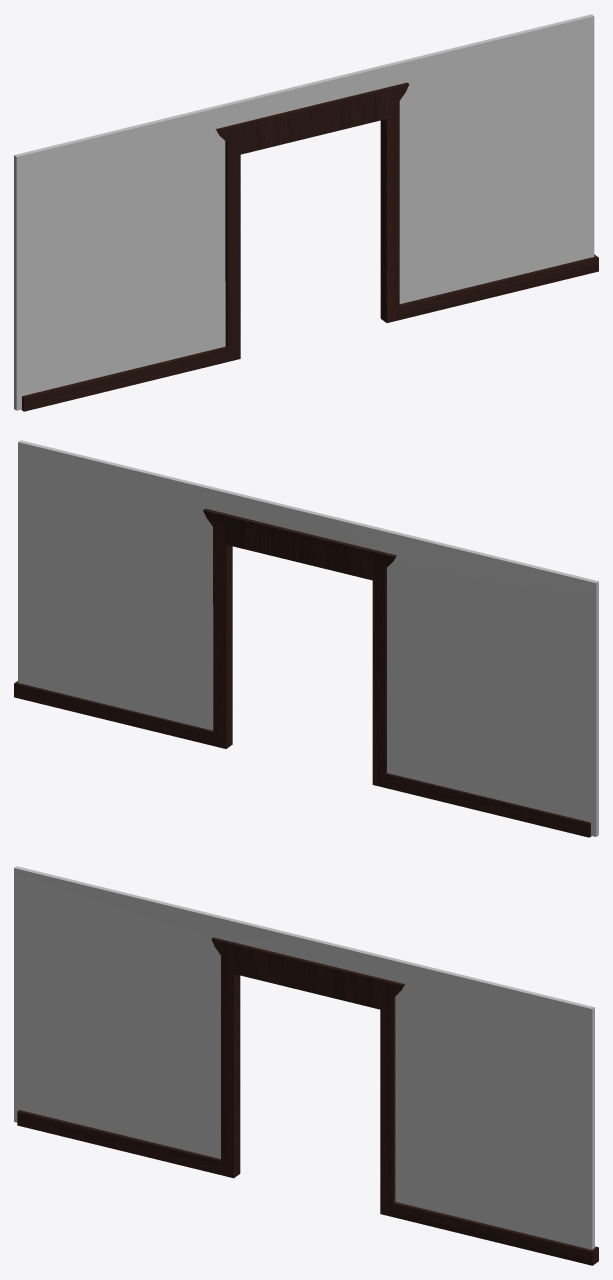
File: DoubleDoorWall.fbx
3 views of the same model, one above another, from view 1: azimuth 30°, elevation 25°; view 2: azimuth 150°, elevation 25°; view 3: azimuth 330°, elevation 25° (orthographic).
Visible parts, largest first — view 1: wall04, polySurface1; view 2: wall04, polySurface1; view 3: wall04, polySurface1.
Boxes of the visible parts, <box> form: wall04: <box>14,14,594,410</box>; polySurface1: <box>21,82,598,411</box>; wall04: <box>18,440,598,836</box>; polySurface1: <box>14,508,591,837</box>; wall04: <box>14,866,594,1249</box>; polySurface1: <box>17,937,598,1265</box>.
Size of the model in its own units: 20.08 by 8.41 by 0.4299.
